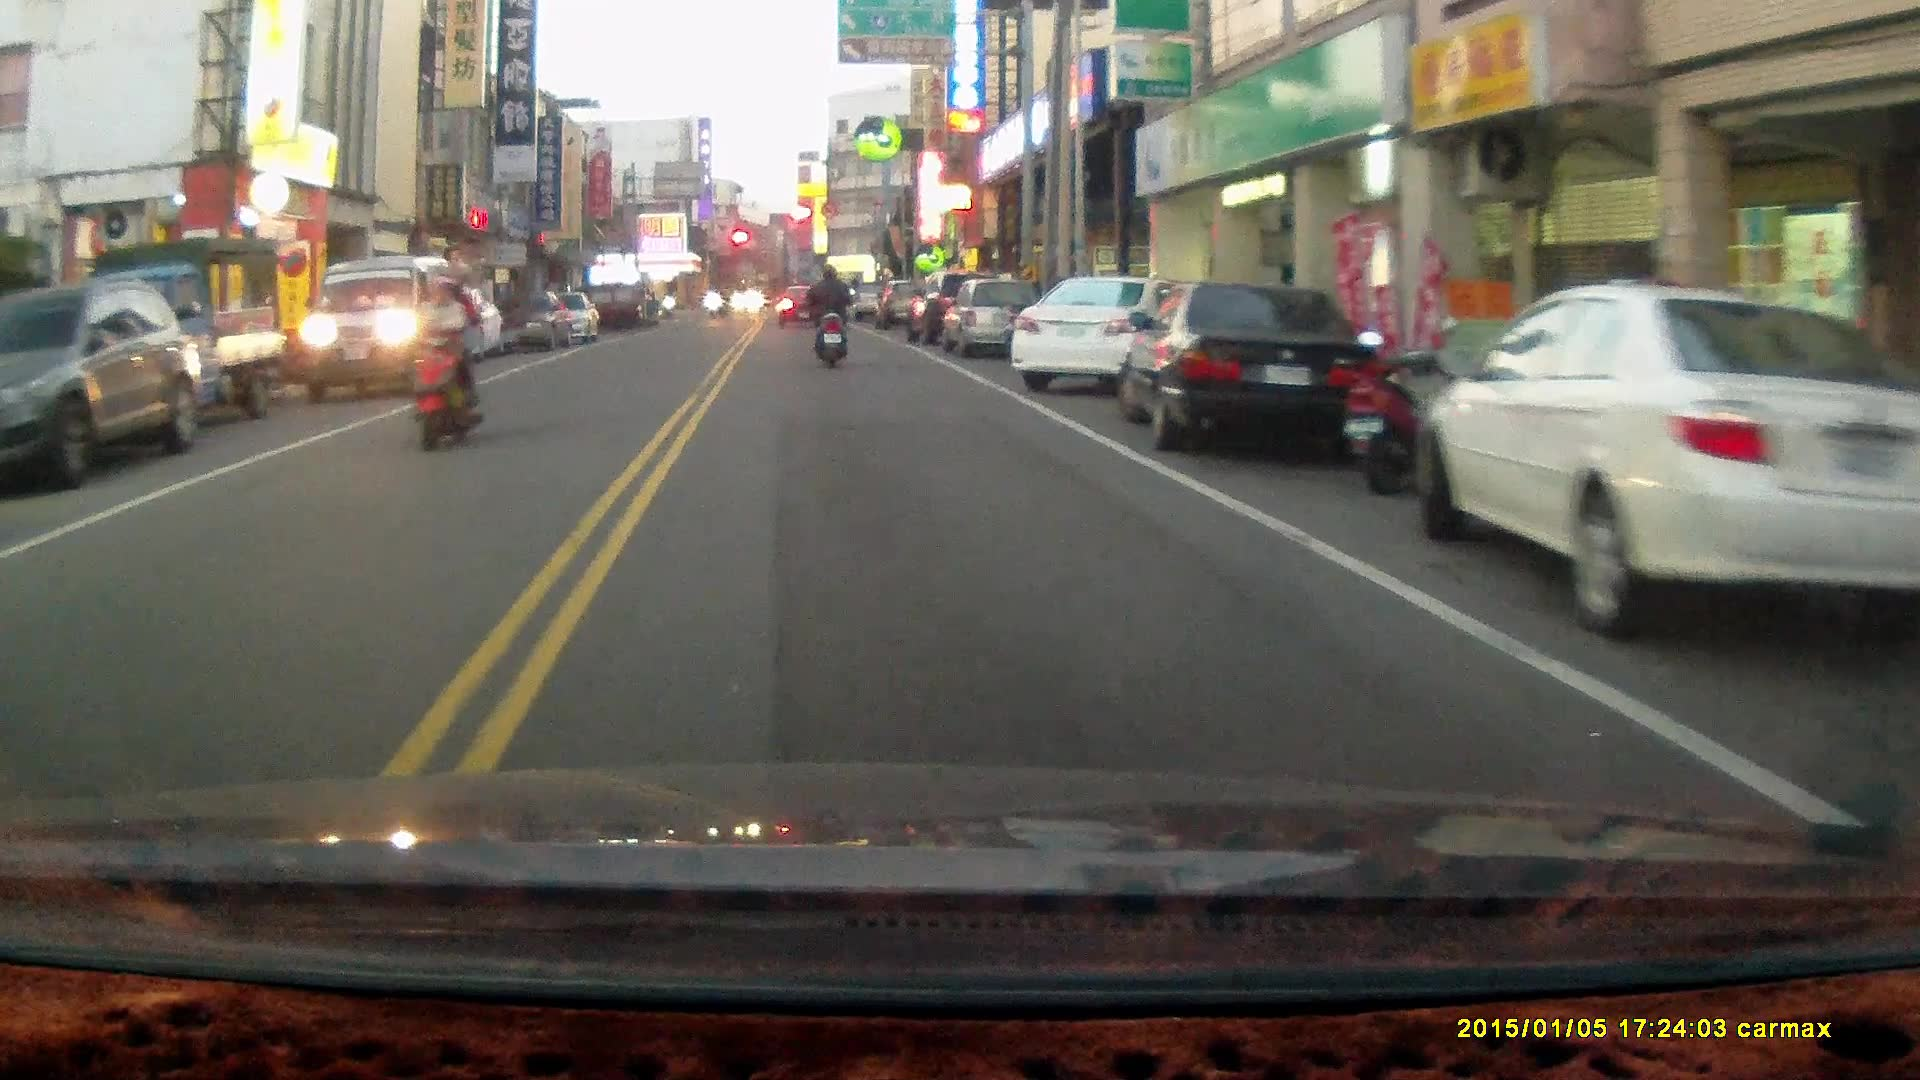rider: (405, 257, 482, 456), (805, 264, 852, 374)
vehicle: (1430, 285, 1919, 642), (1117, 284, 1377, 462), (1, 277, 206, 496), (61, 246, 290, 437), (1008, 276, 1197, 400), (304, 257, 455, 398), (938, 276, 1049, 361)
